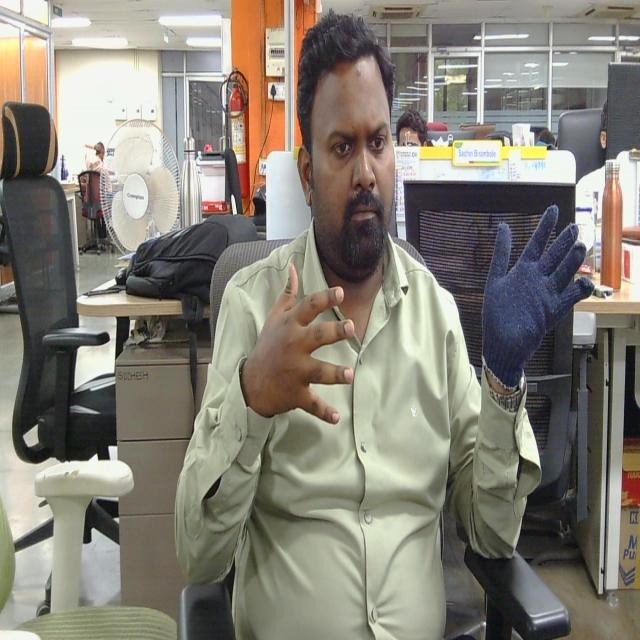Gloves-Detection: (478, 201, 592, 387)
